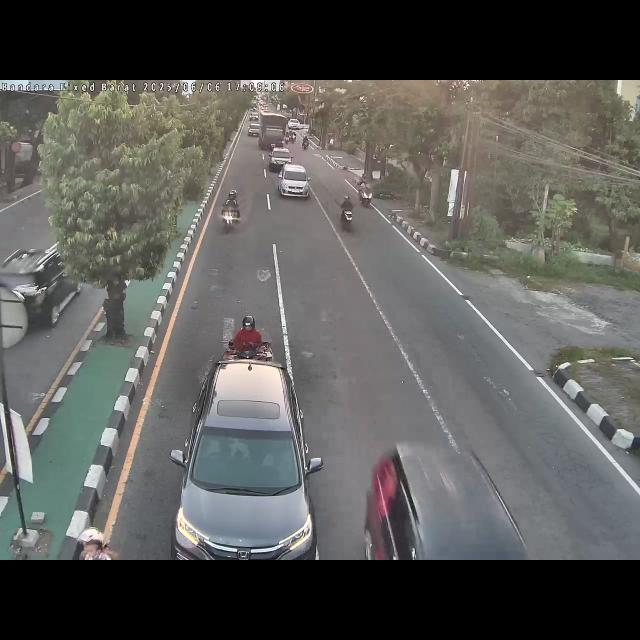Mobil: (166, 356, 328, 560), (356, 440, 532, 560), (276, 163, 314, 201)
Motor: (223, 308, 275, 388), (218, 187, 244, 236), (338, 194, 358, 234), (358, 177, 378, 211)
